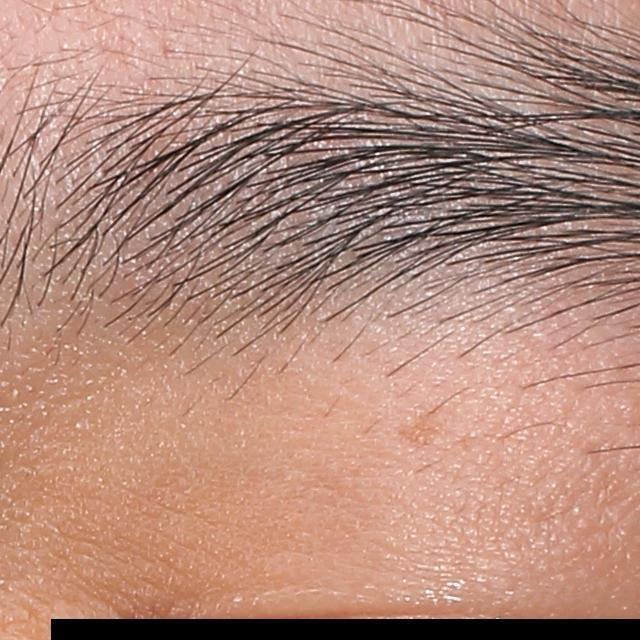melasma: (394, 407, 454, 448)
